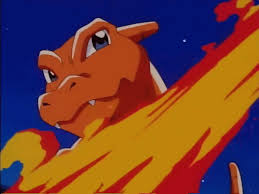charizard: (27, 16, 177, 143)
